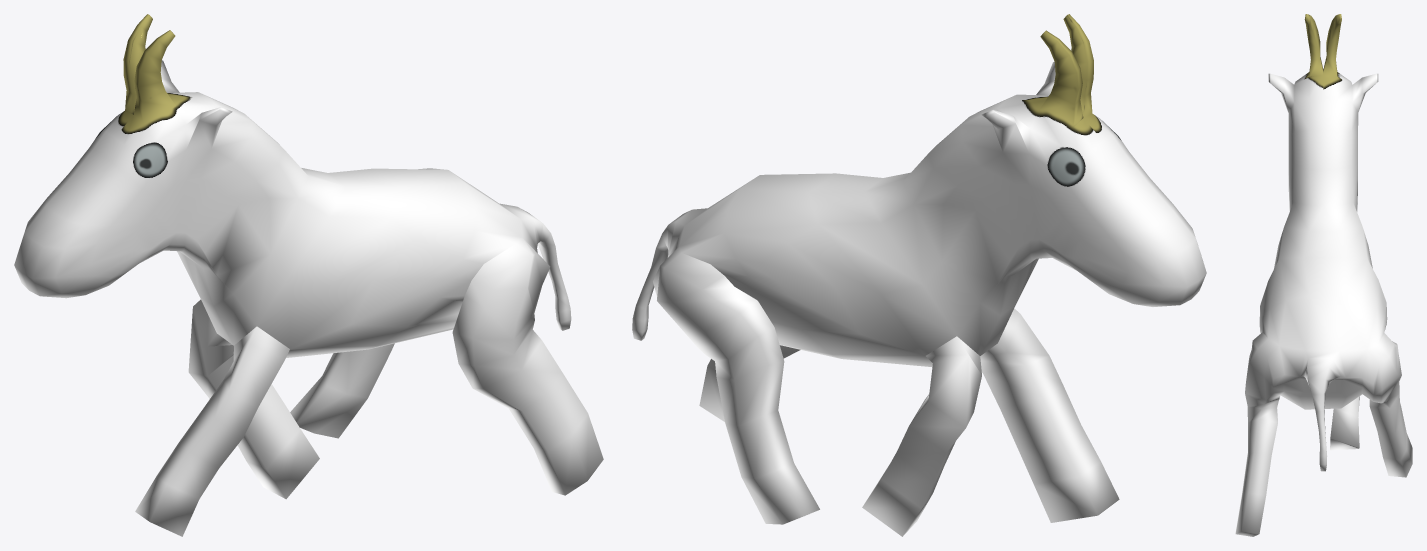
File: goatAnim_000014.obj
3 renders of one model, left to right at view 1: azimuth 30°, elevation 25°; view 2: azimuth 150°, elevation 25°; view 3: azimuth 270°, elevation 25°, orthographic. The views are drawn at different scales.
Visible parts, largest first — view 1: Cube; view 2: Cube; view 3: Cube.
Boxes of the visible parts, x1,y1,x2,y2 form: Cube: (14,14,603,536); Cube: (632,14,1206,536); Cube: (1235,14,1412,536).
Bounding box in the file's own units: 1.31 × 1.19 × 0.4842.
